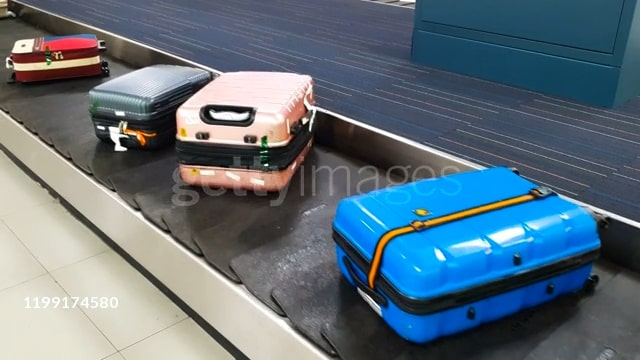baggage: (331, 163, 613, 338), (171, 64, 319, 200), (86, 55, 210, 153), (9, 31, 115, 89)
